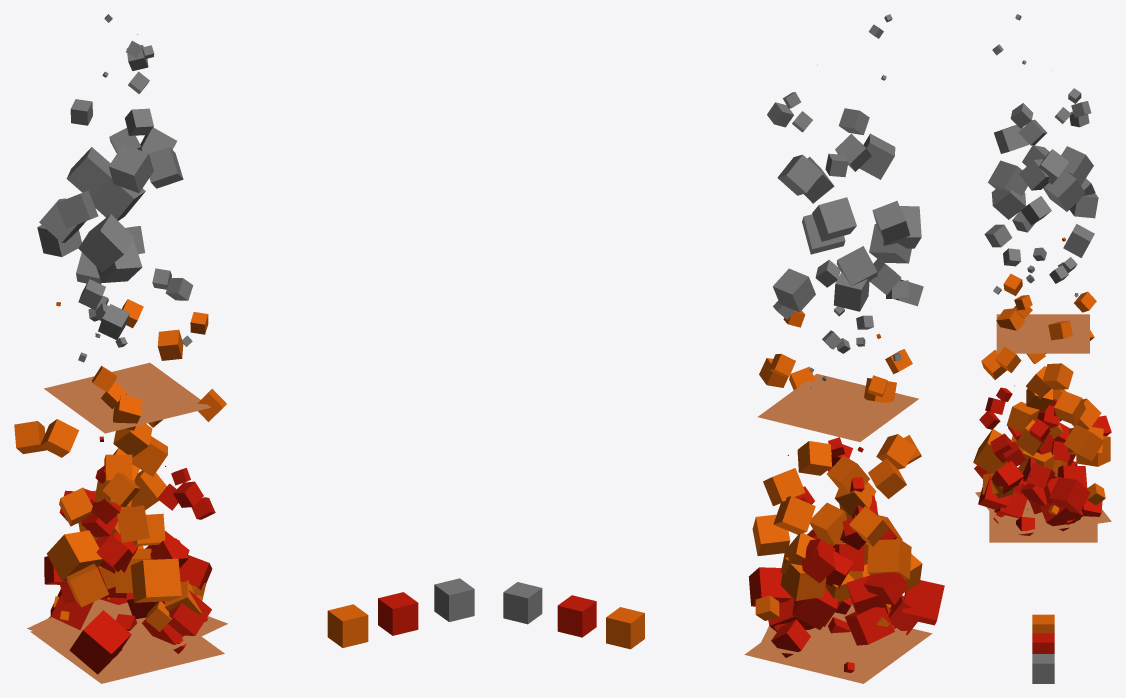
File: fuegoprueba.fbx
3 views of the same model, side by side, from view 1: azimuth 30°, elevation 25°; view 2: azimuth 150°, elevation 25°; view 3: azimuth 270°, elevation 25° (orthographic). The views are drawn at different scales.
Visible parts, largest first — view 1: Plane.002, Plane.001, Plane, Plane|Cube.001|Dupli|130, Plane.001|Cube|Dupli|85, Plane.002|Cube.002|Dupli|41, Plane.001|Cube|Dupli|83, Cube, Plane.002|Cube.002|Dupli|35, Cube.002, Cube.001, Plane.002|Cube.002|Dupli|38 (+22 smaller); view 2: Plane.002, Plane.001, Plane, Plane.001|Cube|Dupli|83, Cube.001, Cube.002, Plane.002|Cube.002|Dupli|38, Cube, Plane|Cube.001|Dupli|130, Plane|Cube.001|Dupli|129, Plane.002|Cube.002|Dupli|46, Plane.001|Cube|Dupli|80 (+25 smaller); view 3: Plane.002, Plane, Plane.001, Plane|Cube.001|Dupli|124, Plane.002|Cube.002|Dupli|40, Plane.002|Cube.002|Dupli|41, Plane.001|Cube|Dupli|80, Plane.002|Cube.002|Dupli|43, Plane.001|Cube|Dupli|75, Plane.001|Cube|Dupli|85, Plane.002|Cube.002|Dupli|38, Cube.002 (+47 smaller).
Boxes of the visible parts, box(x1,y1,x2,y2) form: Plane.002: box(44, 362, 210, 433); Plane.001: box(27, 599, 227, 668); Plane: box(30, 631, 224, 683); Plane|Cube.001|Dupli|130: box(69, 610, 131, 674); Plane.001|Cube|Dupli|85: box(131, 558, 181, 602); Plane.002|Cube.002|Dupli|41: box(78, 214, 134, 272); Plane.001|Cube|Dupli|83: box(47, 530, 103, 581); Cube: box(327, 604, 368, 647); Plane.002|Cube.002|Dupli|35: box(108, 144, 153, 192); Cube.002: box(434, 578, 474, 621); Cube.001: box(378, 592, 418, 635); Plane.002|Cube.002|Dupli|38: box(66, 147, 111, 197); Plane.002: box(757, 374, 918, 441); Plane.001: box(757, 604, 907, 662); Plane: box(744, 628, 932, 683); Plane.001|Cube|Dupli|83: box(867, 539, 911, 579); Cube.001: box(557, 595, 596, 637); Cube.002: box(503, 582, 542, 624); Plane.002|Cube.002|Dupli|38: box(812, 197, 856, 241); Cube: box(606, 607, 644, 649); Plane|Cube.001|Dupli|130: box(902, 580, 944, 625); Plane|Cube.001|Dupli|129: box(845, 607, 894, 645); Plane.002|Cube.002|Dupli|46: box(773, 268, 815, 312); Plane.001|Cube|Dupli|80: box(752, 514, 790, 555); Plane.002: box(996, 314, 1089, 353); Plane: box(989, 511, 1097, 542); Plane.001: box(975, 491, 1111, 535); Plane|Cube.001|Dupli|124: box(1049, 477, 1090, 513); Plane.002|Cube.002|Dupli|40: box(1043, 170, 1085, 211); Plane.002|Cube.002|Dupli|41: box(988, 160, 1027, 195); Plane.001|Cube|Dupli|80: box(1064, 424, 1103, 460); Plane.002|Cube.002|Dupli|43: box(991, 189, 1026, 219); Plane.001|Cube|Dupli|75: box(1054, 391, 1085, 425); Plane.001|Cube|Dupli|85: box(973, 429, 1013, 473); Plane.002|Cube.002|Dupli|38: box(1061, 146, 1093, 184); Cube.002: box(1032, 654, 1054, 683).
Size of what is drawn, in the model's own units: 139 by 216 by 51.2.
